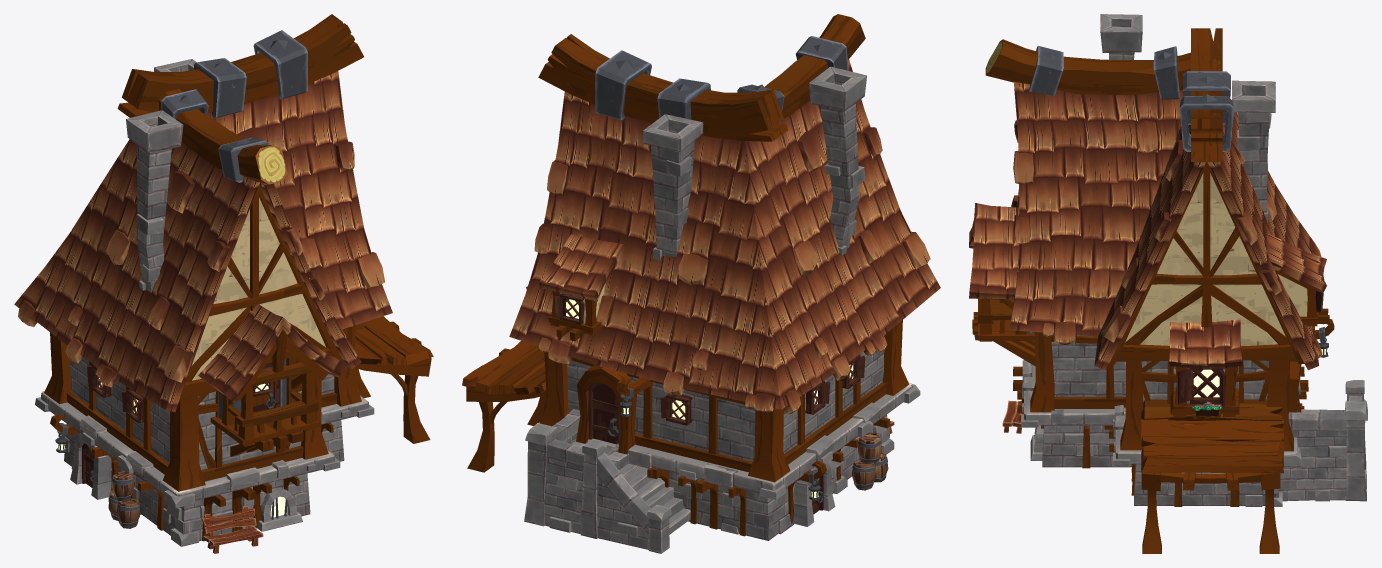
3 renders of one model, left to right at view 1: azimuth 30°, elevation 25°; view 2: azimuth 150°, elevation 25°; view 3: azimuth 270°, elevation 25°, orthographic. The views are drawn at different scales.
Parts seen in each view (by area): view 1: SM_BLD_body_v06_01, SM_BLD_balcony_v02_01, SM_BLD_beam_big_v01_v2, SM_BLD_base_v04_01_2, SM_BLD_chimney_v02_02, SM_BLD_beam_big_v02_01, SM_BLD_body_add_v04_01, SM_BLD_base_v04_01_3, SM_BLD_door_v04_01, SM_PROP_bench_02, SM_BLD_base_v04_01_1, SM_BLD_window_v09_04 (+3 smaller); view 2: SM_BLD_body_v06_01, SM_BLD_stairs_v04_v1, SM_BLD_beam_big_v01_v2, SM_BLD_base_v04_01_3, SM_BLD_chimney_v02_02, SM_BLD_window_v02_01, SM_BLD_chimney_v01_02, SM_BLD_body_add_v04_01, SM_BLD_beam_big_v02_01, SM_BLD_door_v03_01, SM_BLD_base_v04_01_2, SM_BLD_door_v04_01 (+5 smaller); view 3: SM_BLD_body_v06_01, SM_BLD_body_add_v04_01, SM_BLD_beam_big_v02_01, SM_BLD_stairs_v04_v1, SM_BLD_balcony_v02_01, SM_BLD_window_v01_01, SM_BLD_beam_big_v01_v2, SM_BLD_base_v04_01_2, SM_BLD_base_v04_01_1, SM_BLD_chimney_v01_02, SM_BLD_window_v02_01, SM_BLD_chimney_v02_02 (+2 smaller).
Part boxes in pixels (bbox=[...]): SM_BLD_body_v06_01: bbox=[14, 71, 392, 491]; SM_BLD_balcony_v02_01: bbox=[198, 304, 347, 456]; SM_BLD_beam_big_v01_v2: bbox=[117, 14, 363, 118]; SM_BLD_base_v04_01_2: bbox=[81, 432, 340, 546]; SM_BLD_chimney_v02_02: bbox=[126, 110, 183, 292]; SM_BLD_beam_big_v02_01: bbox=[159, 89, 287, 184]; SM_BLD_body_add_v04_01: bbox=[354, 316, 433, 443]; SM_BLD_base_v04_01_3: bbox=[35, 391, 141, 514]; SM_BLD_door_v04_01: bbox=[70, 433, 111, 499]; SM_PROP_bench_02: bbox=[201, 506, 263, 553]; SM_BLD_base_v04_01_1: bbox=[321, 390, 374, 461]; SM_BLD_window_v09_04: bbox=[257, 488, 302, 531]; SM_BLD_body_v06_01: bbox=[509, 59, 940, 482]; SM_BLD_stairs_v04_v1: bbox=[524, 409, 690, 553]; SM_BLD_beam_big_v01_v2: bbox=[538, 34, 788, 141]; SM_BLD_base_v04_01_3: bbox=[611, 417, 873, 540]; SM_BLD_chimney_v02_02: bbox=[808, 66, 866, 255]; SM_BLD_window_v02_01: bbox=[538, 234, 622, 341]; SM_BLD_chimney_v01_02: bbox=[642, 114, 703, 261]; SM_BLD_body_add_v04_01: bbox=[462, 341, 546, 472]; SM_BLD_beam_big_v02_01: bbox=[737, 14, 865, 123]; SM_BLD_door_v03_01: bbox=[576, 365, 636, 454]; SM_BLD_base_v04_01_2: bbox=[820, 383, 920, 492]; SM_BLD_door_v04_01: bbox=[793, 462, 835, 526]; SM_BLD_body_v06_01: bbox=[1010, 81, 1322, 451]; SM_BLD_body_add_v04_01: bbox=[1141, 399, 1283, 553]; SM_BLD_beam_big_v02_01: bbox=[985, 39, 1190, 99]; SM_BLD_stairs_v04_v1: bbox=[1278, 380, 1367, 501]; SM_BLD_balcony_v02_01: bbox=[969, 203, 1035, 366]; SM_BLD_window_v01_01: bbox=[1169, 319, 1242, 419]; SM_BLD_beam_big_v01_v2: bbox=[1179, 28, 1234, 161]; SM_BLD_base_v04_01_2: bbox=[1013, 360, 1131, 468]; SM_BLD_base_v04_01_1: bbox=[1104, 381, 1304, 506]; SM_BLD_chimney_v01_02: bbox=[1232, 80, 1275, 222]; SM_BLD_window_v02_01: bbox=[1266, 233, 1329, 326]; SM_BLD_chimney_v02_02: bbox=[1100, 14, 1142, 59].
Size of the model in its own units: 1301 by 1467 by 1303.
13 materials, 12 textured.
